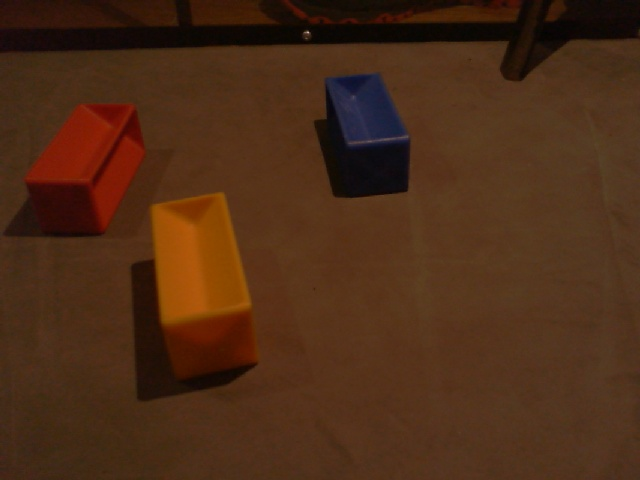BlueSample: (322, 72, 412, 196)
RedSample: (24, 100, 146, 237)
YellowSample: (148, 185, 258, 381)
